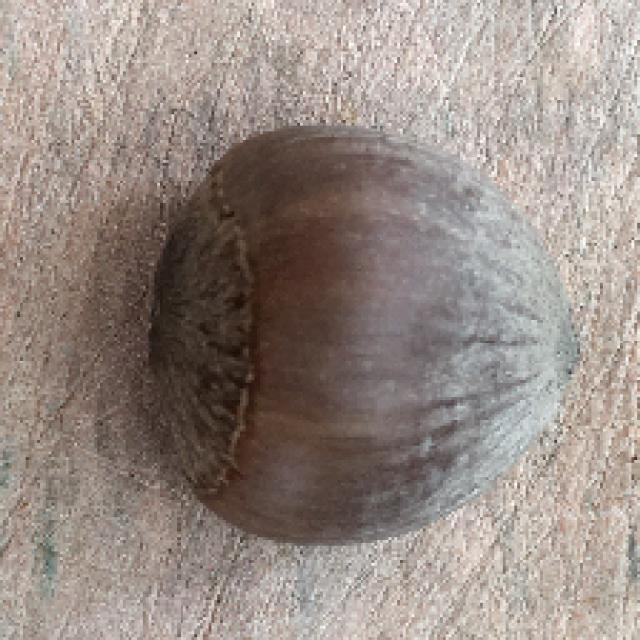damagedHazelnut: (150, 126, 593, 546)
